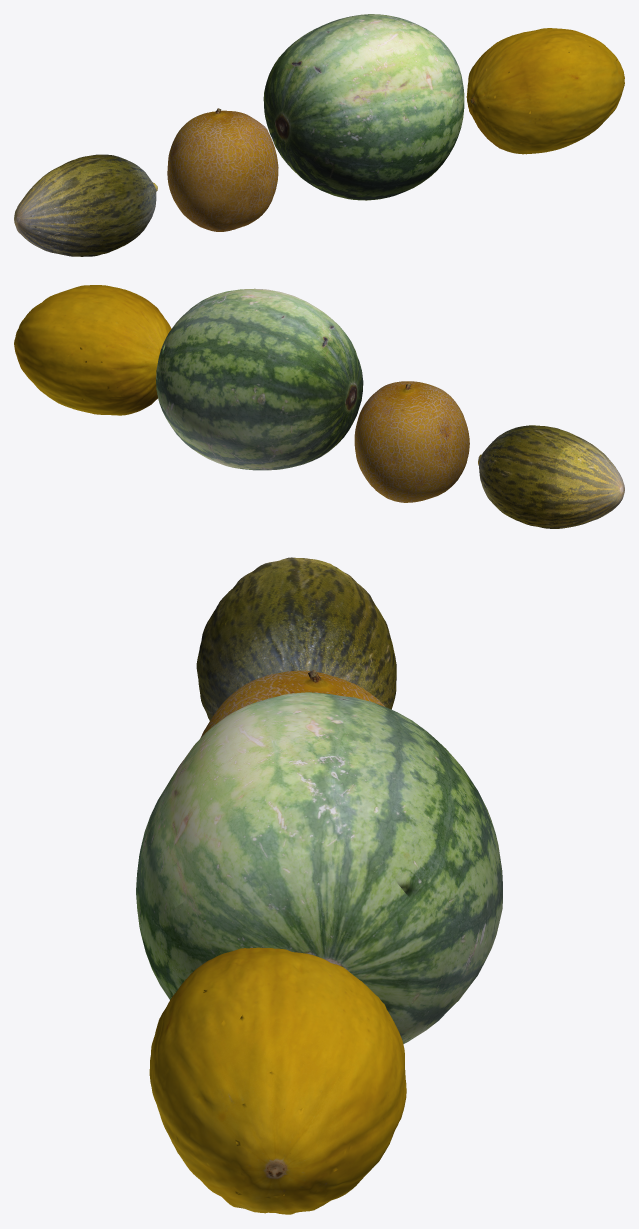
Rendered from 4_melons.fbx.
The picture shows the model from 3 angles, top to bottom: view 1: azimuth 30°, elevation 25°; view 2: azimuth 150°, elevation 25°; view 3: azimuth 270°, elevation 25°; orthographic projection. The views are drawn at different scales.
Parts seen in each view (by area): view 1: Vesimeloni_1k, Hunajameloni_retopo, Piel_De_Sapo_melon_retopo, okashi_retopo; view 2: Vesimeloni_1k, Hunajameloni_retopo, Piel_De_Sapo_melon_retopo, okashi_retopo; view 3: Vesimeloni_1k, Hunajameloni_retopo, Piel_De_Sapo_melon_retopo, okashi_retopo.
Part boxes in pixels (x1,y1,x2,y2): Vesimeloni_1k: [263, 14, 464, 200]; Hunajameloni_retopo: [466, 28, 624, 154]; Piel_De_Sapo_melon_retopo: [14, 154, 157, 256]; okashi_retopo: [167, 108, 278, 231]; Vesimeloni_1k: [156, 288, 363, 470]; Hunajameloni_retopo: [14, 285, 171, 415]; Piel_De_Sapo_melon_retopo: [478, 425, 624, 528]; okashi_retopo: [354, 381, 469, 502]; Vesimeloni_1k: [136, 692, 502, 1043]; Hunajameloni_retopo: [149, 947, 406, 1214]; Piel_De_Sapo_melon_retopo: [196, 557, 396, 720]; okashi_retopo: [200, 669, 384, 737].
Bounding box in the file's own units: 2616 × 688 × 696.
